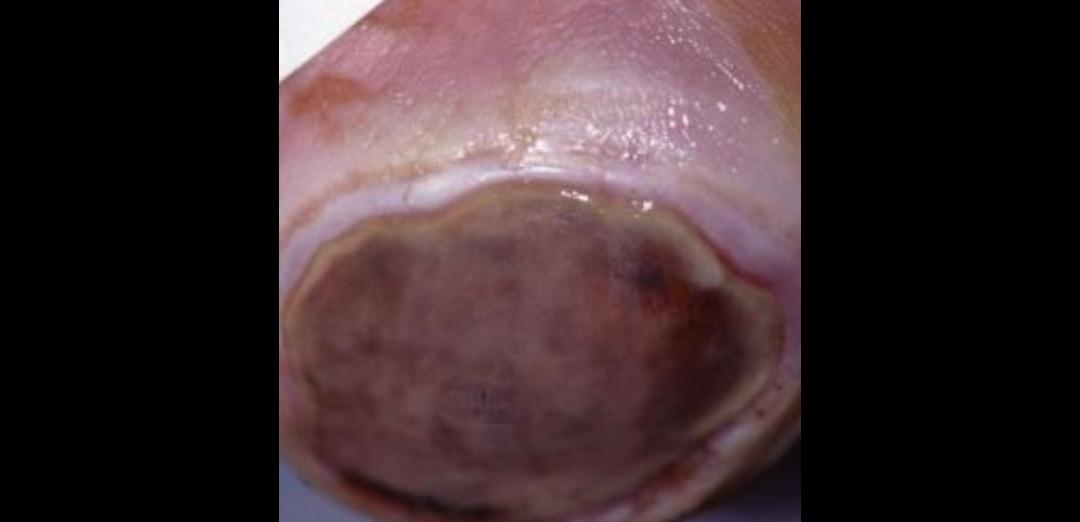Stage3: (284, 167, 801, 522)
